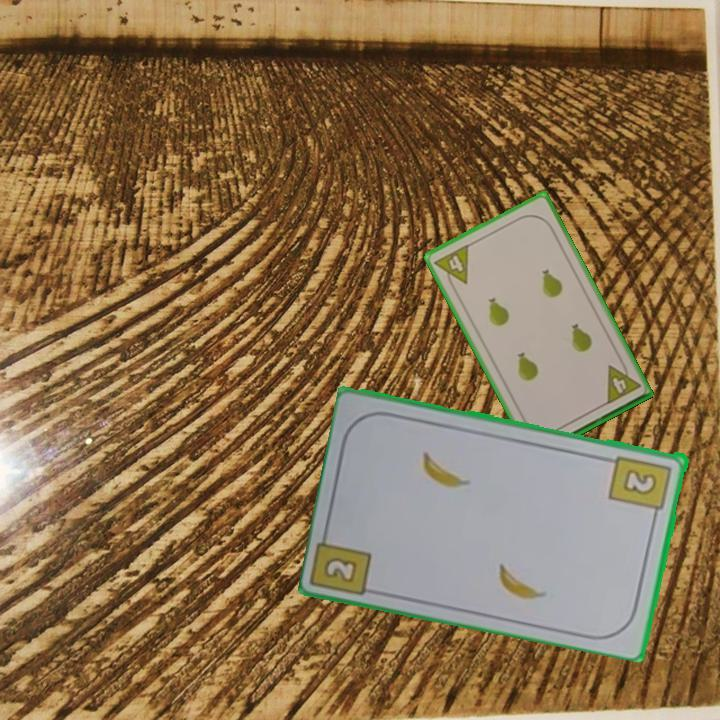2b: (606, 451, 675, 522), (320, 553, 361, 586)
4p: (430, 241, 472, 293), (602, 356, 643, 407)
